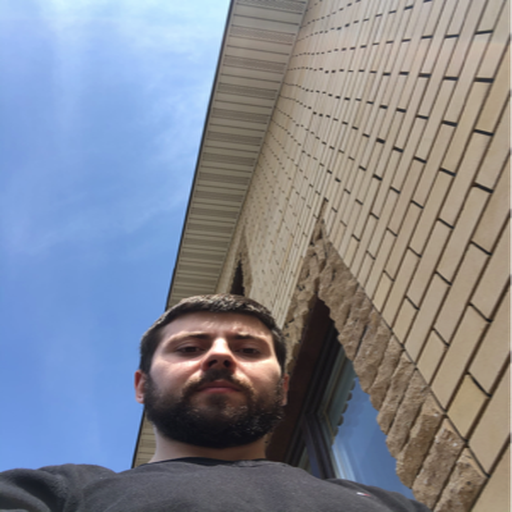person: (163, 329, 274, 420)
